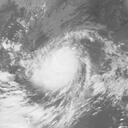cyclone: (32, 47, 90, 91)
